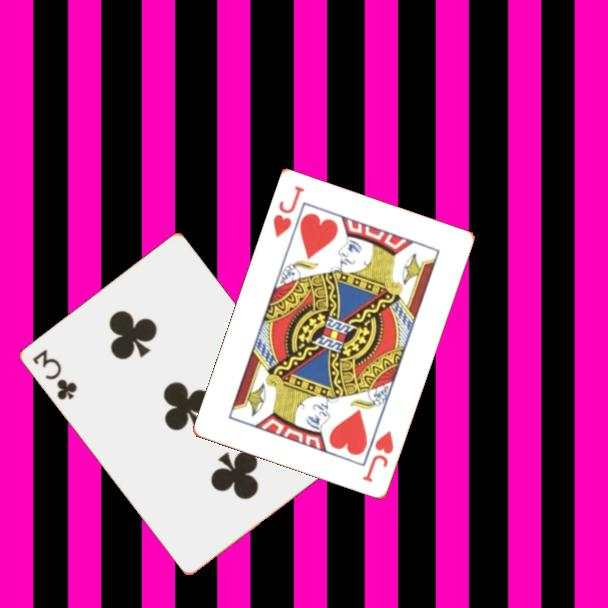c03: (28, 345, 80, 403)
h11: (359, 427, 397, 486), (270, 182, 307, 241)
